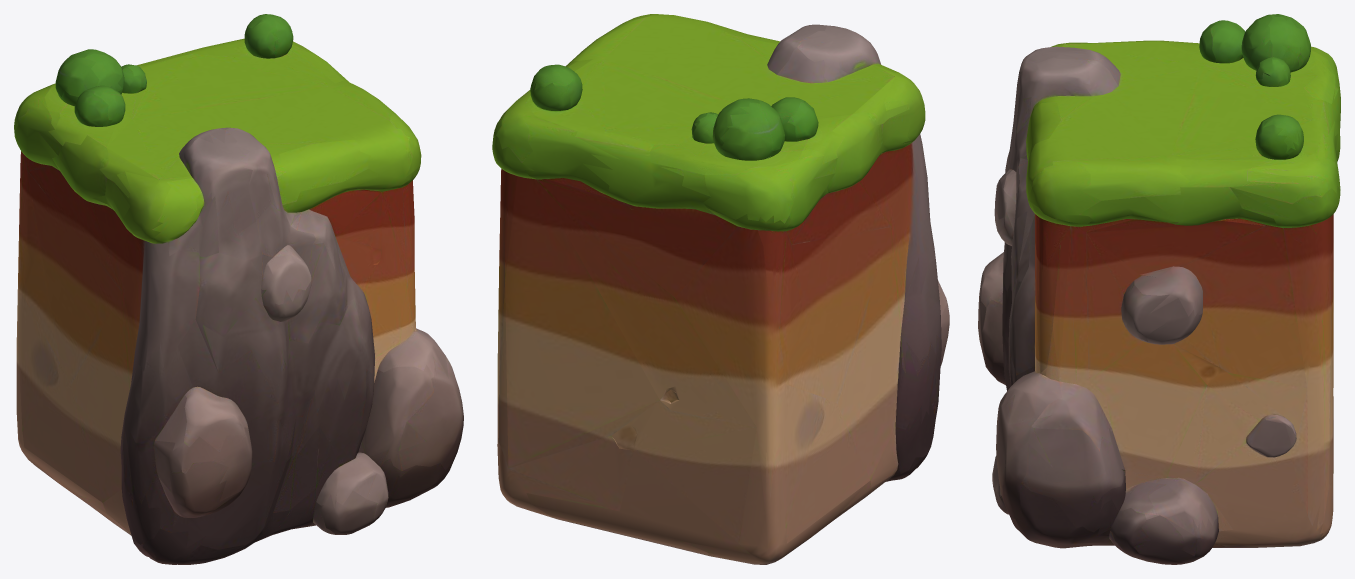
Rendered from t_cliff.fbx.
The picture shows the model from 3 angles, left to right: view 1: azimuth 30°, elevation 25°; view 2: azimuth 150°, elevation 25°; view 3: azimuth 270°, elevation 25°; orthographic projection. The views are drawn at different scales.
Visible parts, largest first — view 1: Mesh_0; view 2: Mesh_0; view 3: Mesh_0.
Part boxes in pixels (bbox=[...]): Mesh_0: bbox=[14, 14, 463, 564]; Mesh_0: bbox=[492, 14, 949, 564]; Mesh_0: bbox=[978, 14, 1340, 564].
Bounding box in the file's own units: 1.52 × 1.9 × 1.43.
1 material, 1 textured.
